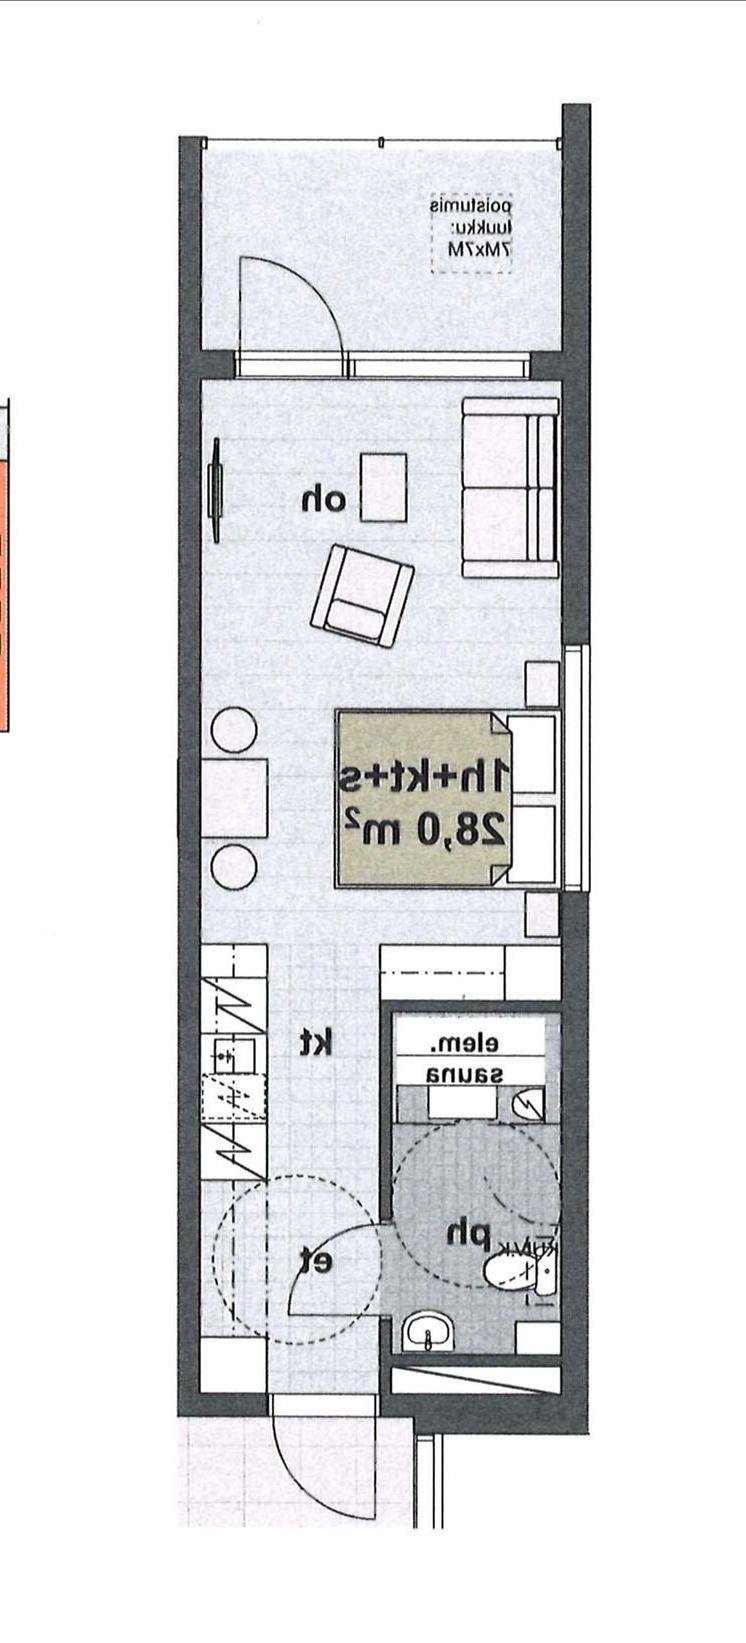bathroom: (398, 1091, 557, 1365)
door: (265, 1380, 385, 1524), (232, 249, 359, 384), (284, 1218, 398, 1326)
perimeter: (182, 345, 592, 1421)
window: (341, 343, 544, 400), (556, 626, 597, 907)
